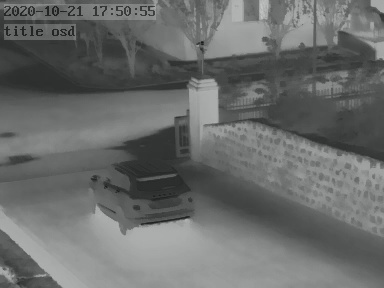vehicle: (91, 153, 194, 233)
